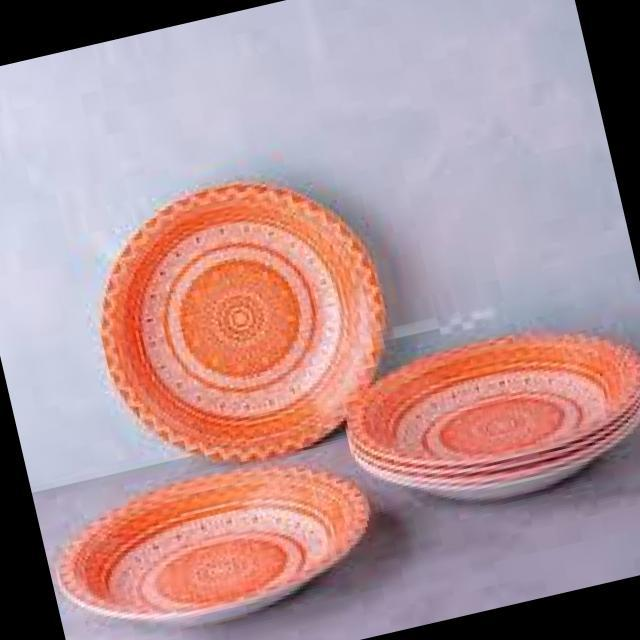plate: (107, 187, 385, 458), (62, 463, 367, 627), (355, 337, 640, 500)
